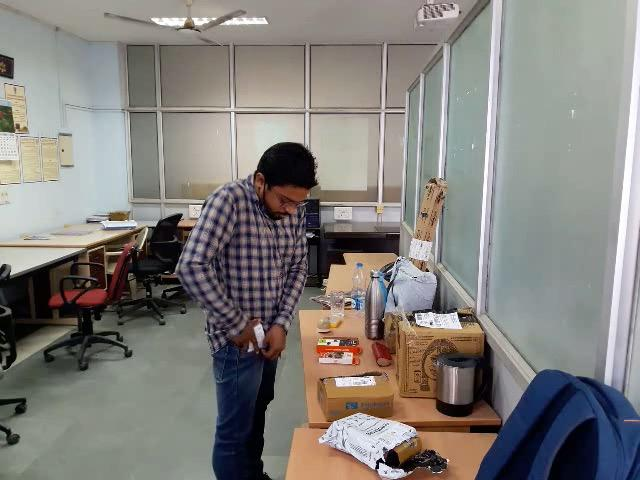shoplifting: (161, 252, 314, 478)
